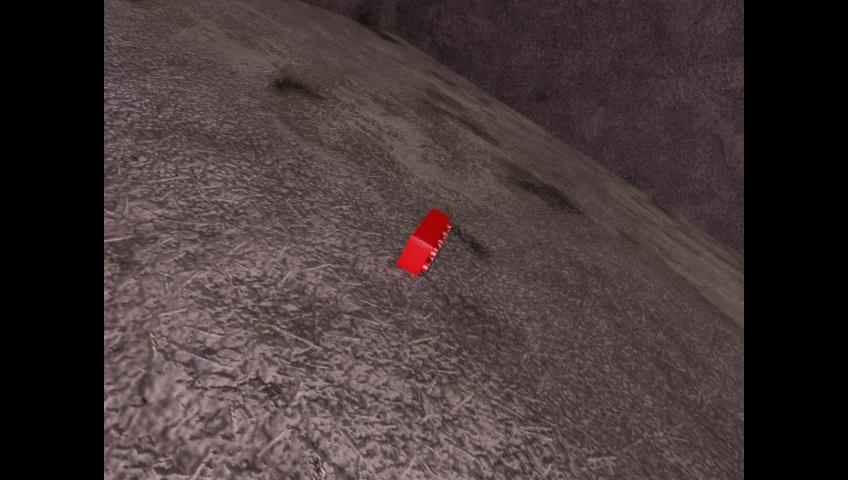4x2_red: (396, 207, 451, 275)
